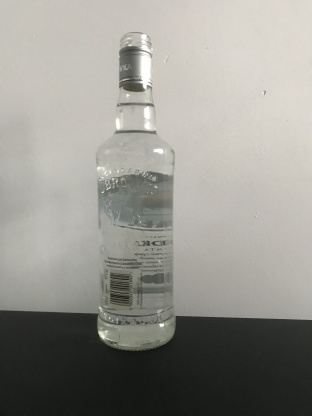nakretka: (117, 29, 154, 91)
